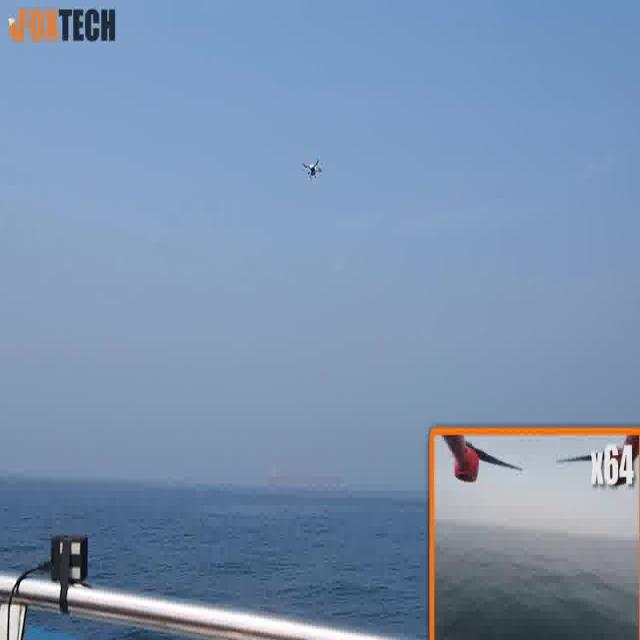Drone_FW: (300, 153, 326, 183)
